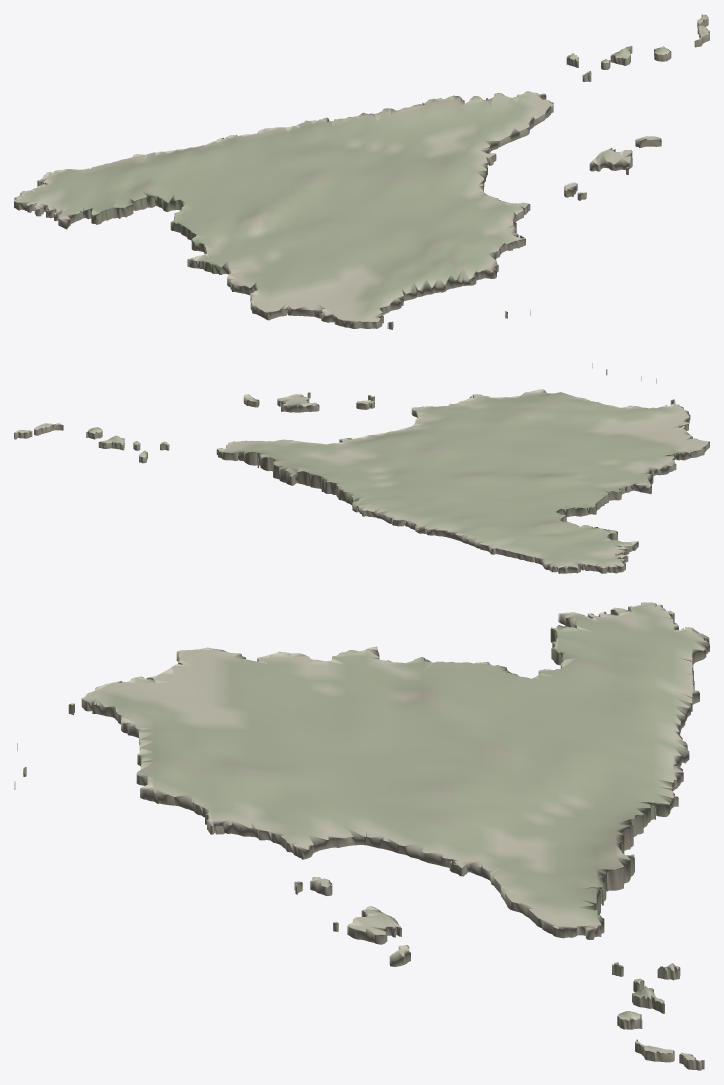
File: es-mobile.glb
The picture shows the model from 3 angles, top to bottom: view 1: azimuth 30°, elevation 25°; view 2: azimuth 150°, elevation 25°; view 3: azimuth 270°, elevation 25°; orthographic projection. The views are drawn at different scales.
Size of the model in its own units: 129 by 2.98 by 82.4.
